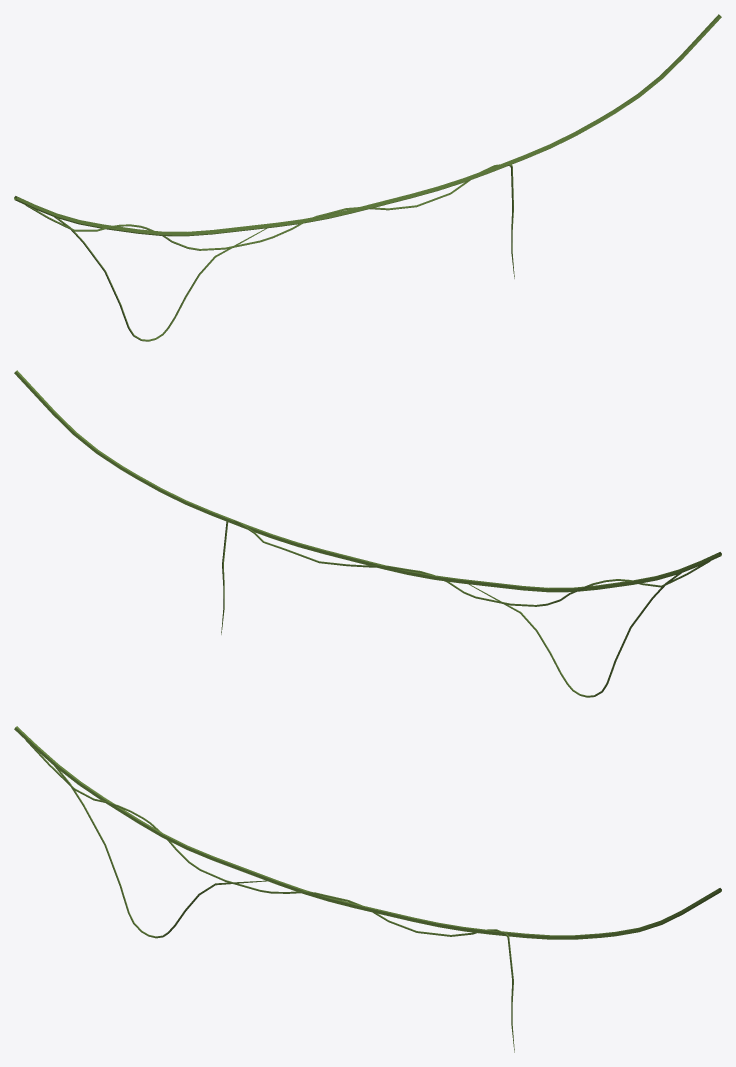
File: SM_liana_jungle_03.fbx
3 renders of one model, top to bottom at view 1: azimuth 30°, elevation 25°; view 2: azimuth 150°, elevation 25°; view 3: azimuth 330°, elevation 25°, orthographic.
Visible parts, largest first — view 1: Line008; view 2: Line008; view 3: Line008.
Boxes of the visible parts, box(x1,y1,x2,y2) form: Line008: box(14, 14, 721, 341); Line008: box(14, 370, 721, 697); Line008: box(14, 726, 721, 1052).
Bounding box in the file's own units: 477 × 138 × 6.77.
